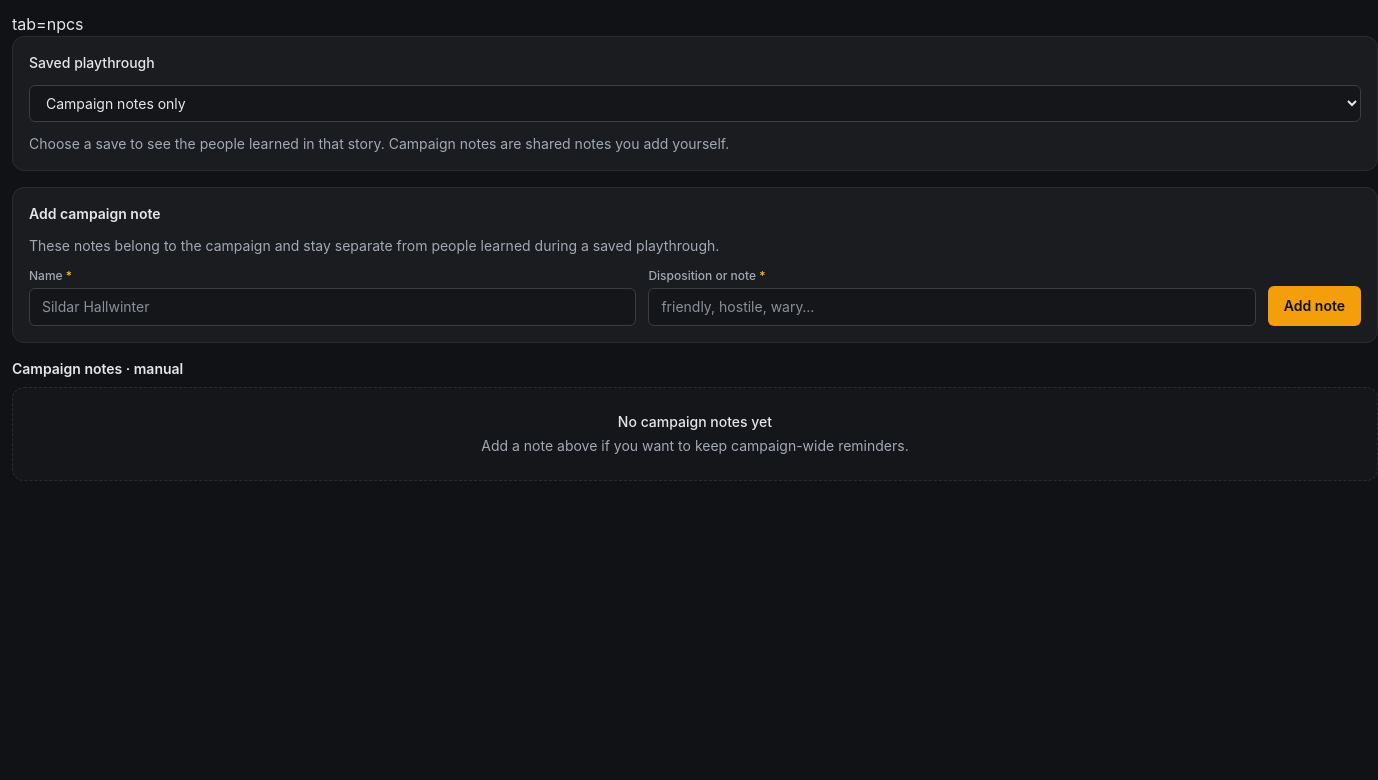
Test: distinguishes the available empty state
The width and height of the screenshot is (1378, 780).
Select "Session 1 · Oct 13, 2026, 10:00 AM" in the dropdown with id "npc-session": x=695, y=104 29,85 -> 1361,122
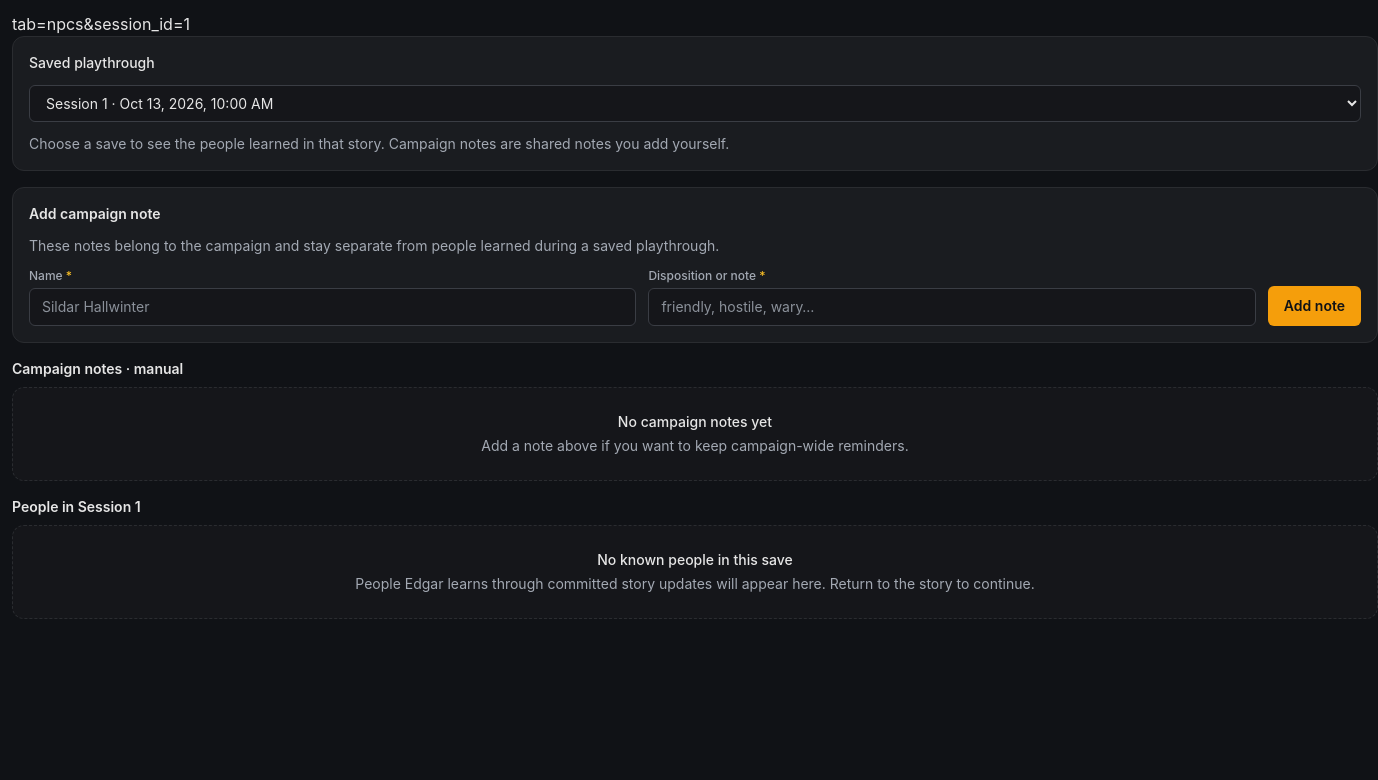
expect the text "No known people in this save" is shown: met, box 597,551 -> 793,568
